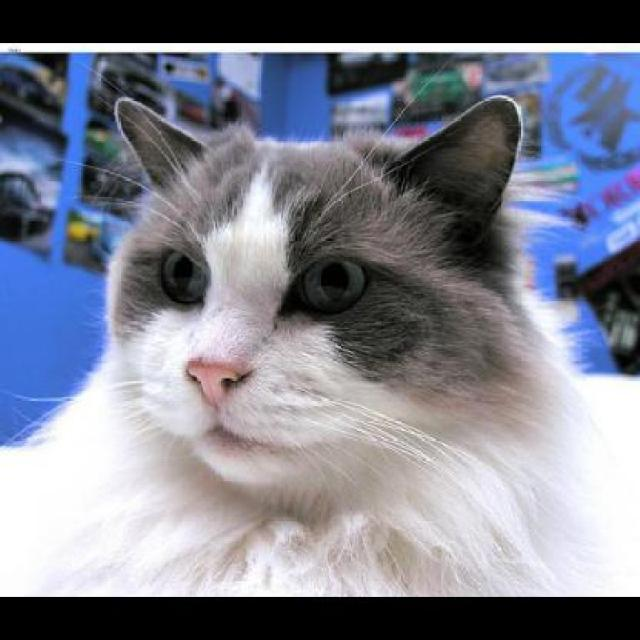unauthorized: (0, 89, 612, 596)
